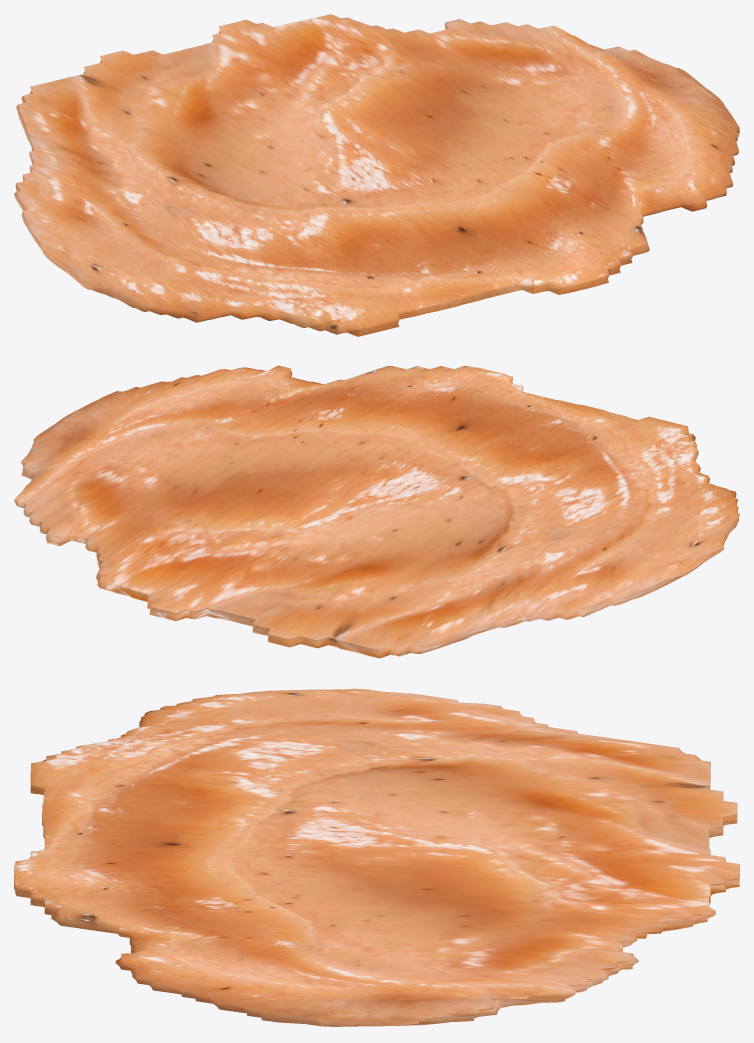
Rendered from smash-sauce.glb.
The picture shows the model from 3 angles, top to bottom: view 1: azimuth 30°, elevation 25°; view 2: azimuth 150°, elevation 25°; view 3: azimuth 270°, elevation 25°; orthographic projection. The views are drawn at different scales.
Visible parts, largest first — view 1: smash-sauce; view 2: smash-sauce; view 3: smash-sauce.
Part boxes in pixels (left/top/right/bottom): smash-sauce: left=14, top=14, right=739, bottom=336; smash-sauce: left=14, top=365, right=739, bottom=658; smash-sauce: left=14, top=688, right=739, bottom=1026.
Size of the model in its own units: 0.86 by 0.03 by 0.78.
1 material, 1 textured.
